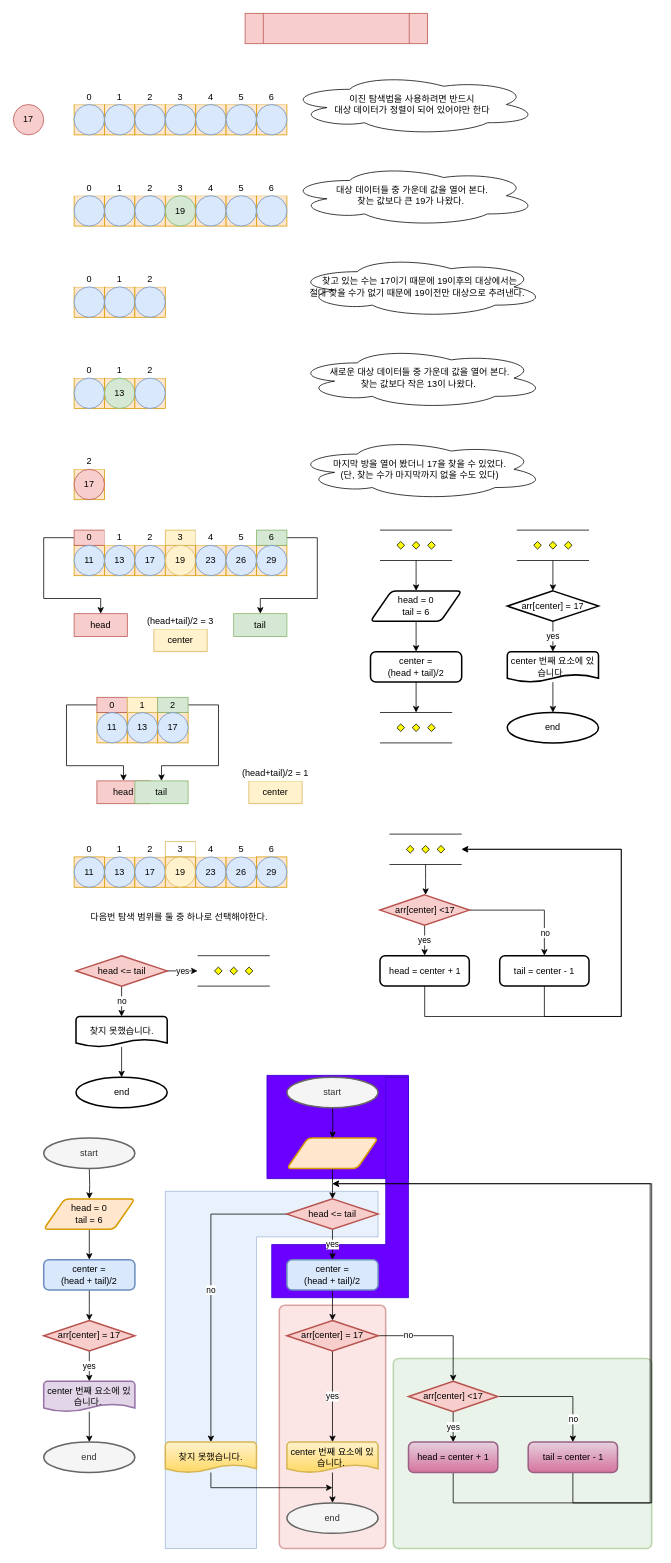
Image size: 671x1563. Some labels were removed from this diagram. The shapes that lost their labels are listed below. From the top down, each one's centre as x and y in pixels, then its label:
[336,28]: Binary Search
[332,1153]: arr head = 0 tail = 6
